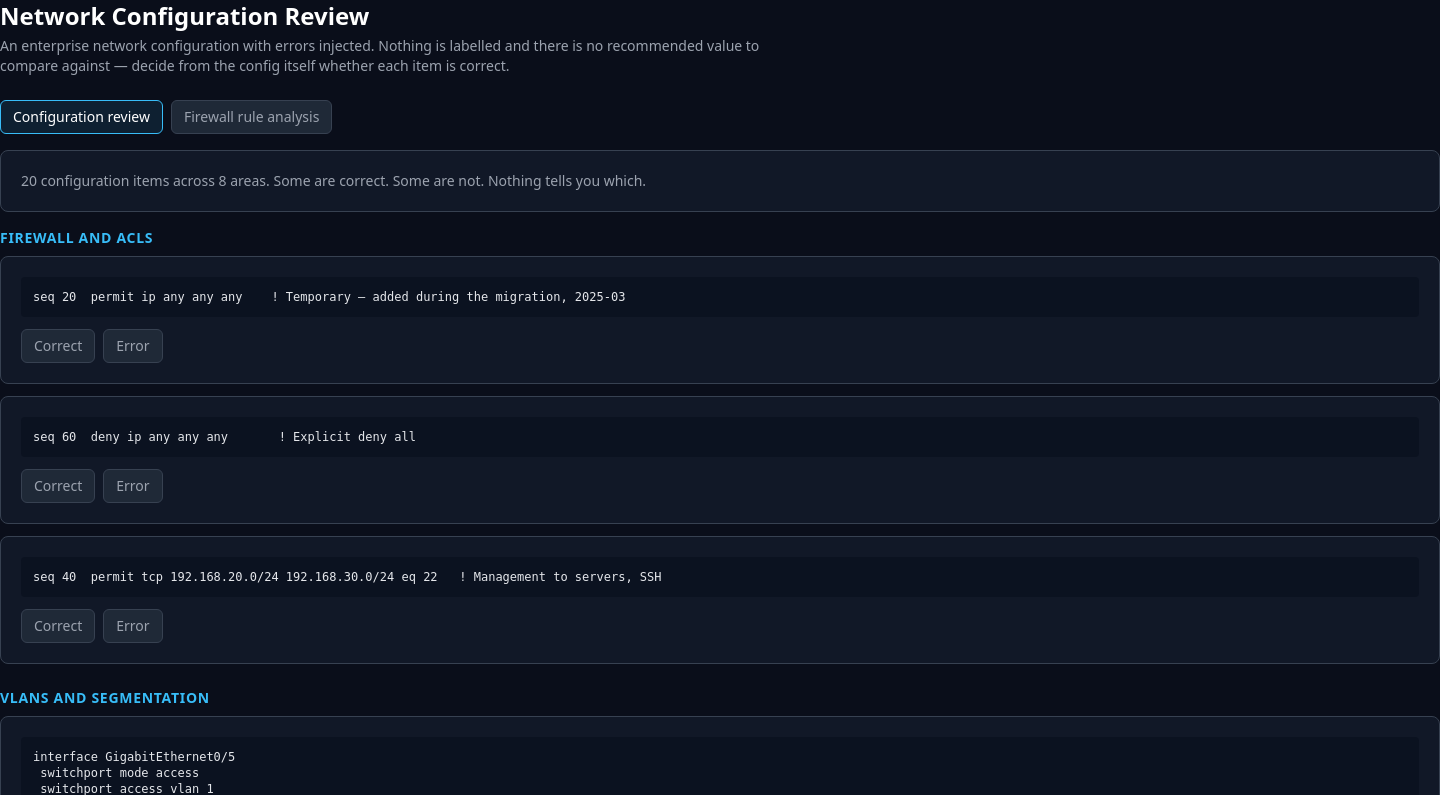
Test: NetworkReviewView › shows the shadowed rules on the firewall tab
Click the button "Firewall rule analysis". click: click(252, 117)
box: [171,100,332,134]
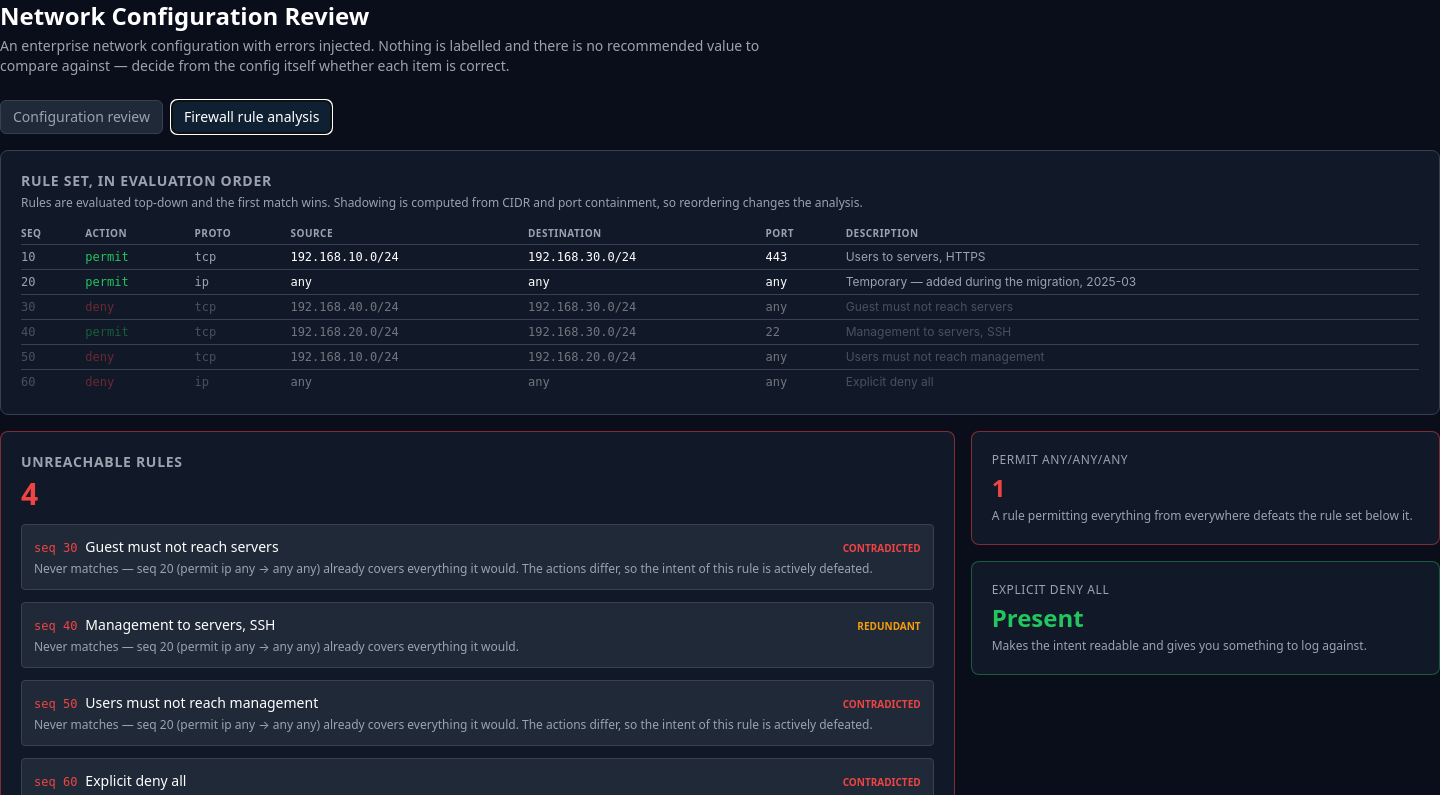
Expected: the text with test id "broad-permits" reads "1", [992,471,1005,504]
Expected: the text with test id "shadowed-count" reads "4", [21,473,38,514]
Expected: the text with test id "deny-all" reads "Present", [992,601,1084,634]
